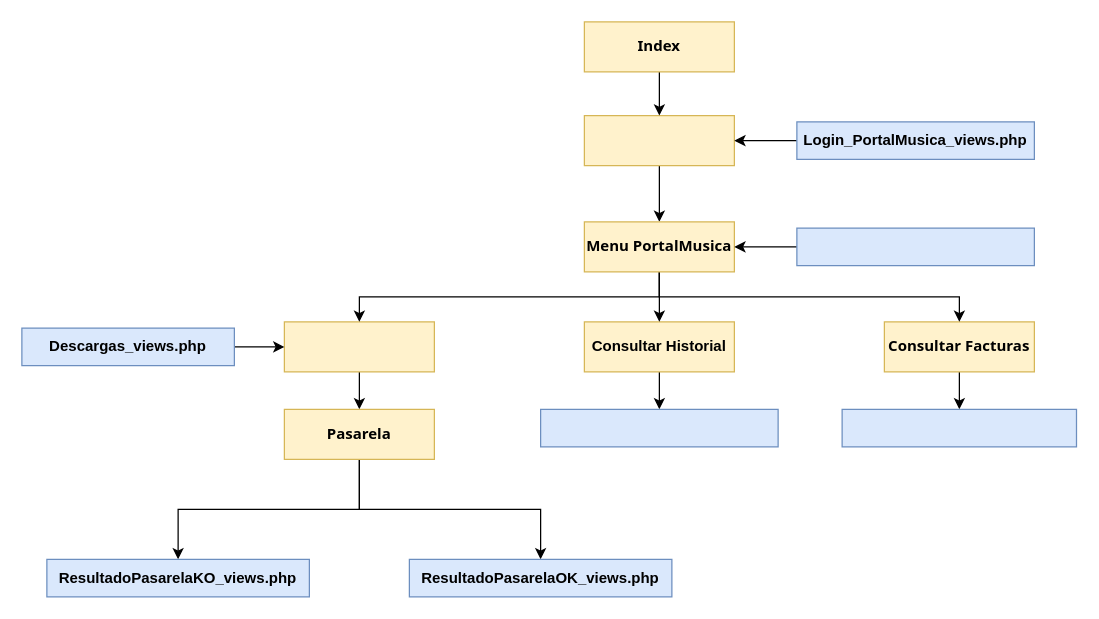
The diagram is 1099 pixels wide and 619 high, and some of its shapes have lost their labels. Each missing label, with the box of its shape:
Consultar_Facturas_views.php: (841, 408, 1076, 447)
Consultar_Historial_views.php: (539, 408, 778, 447)
Descargas: (283, 321, 434, 372)
Login Portal Musica: (583, 114, 734, 166)
Menu_PortalMusica_views.php: (796, 227, 1034, 266)
